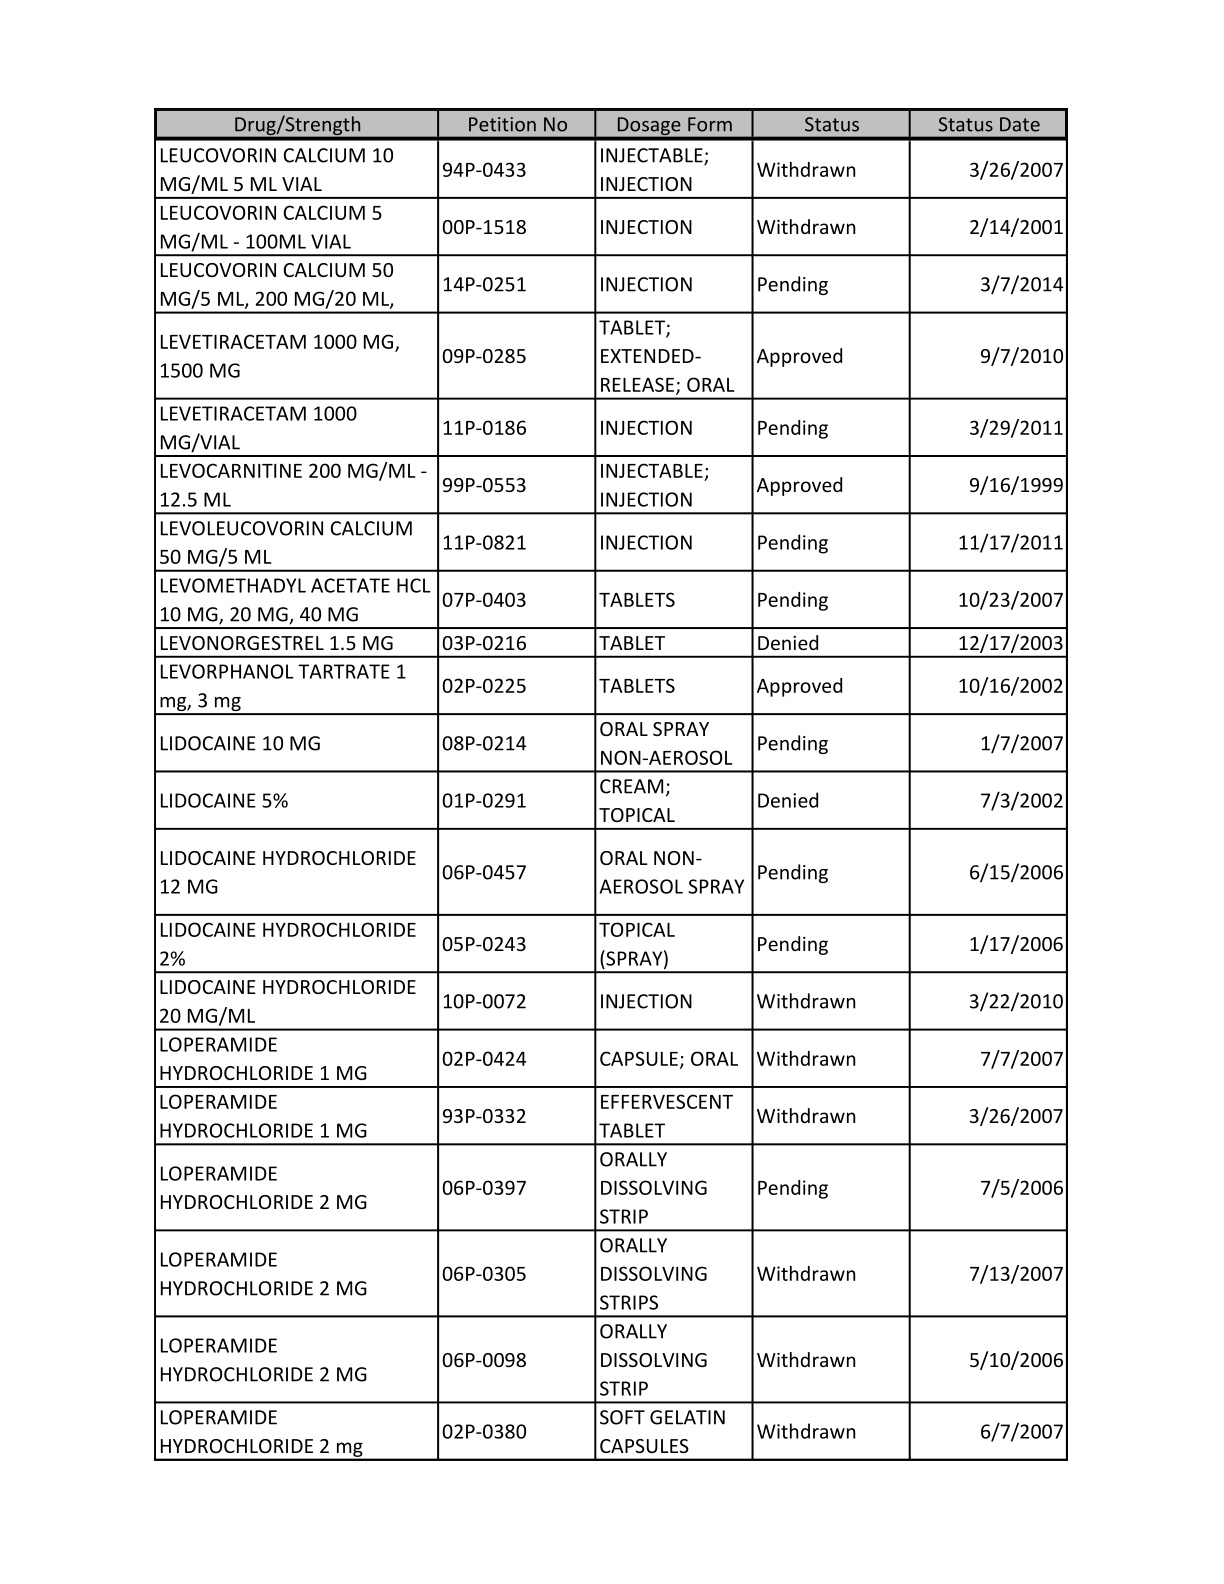full_lined: (153, 107, 1068, 1462)
